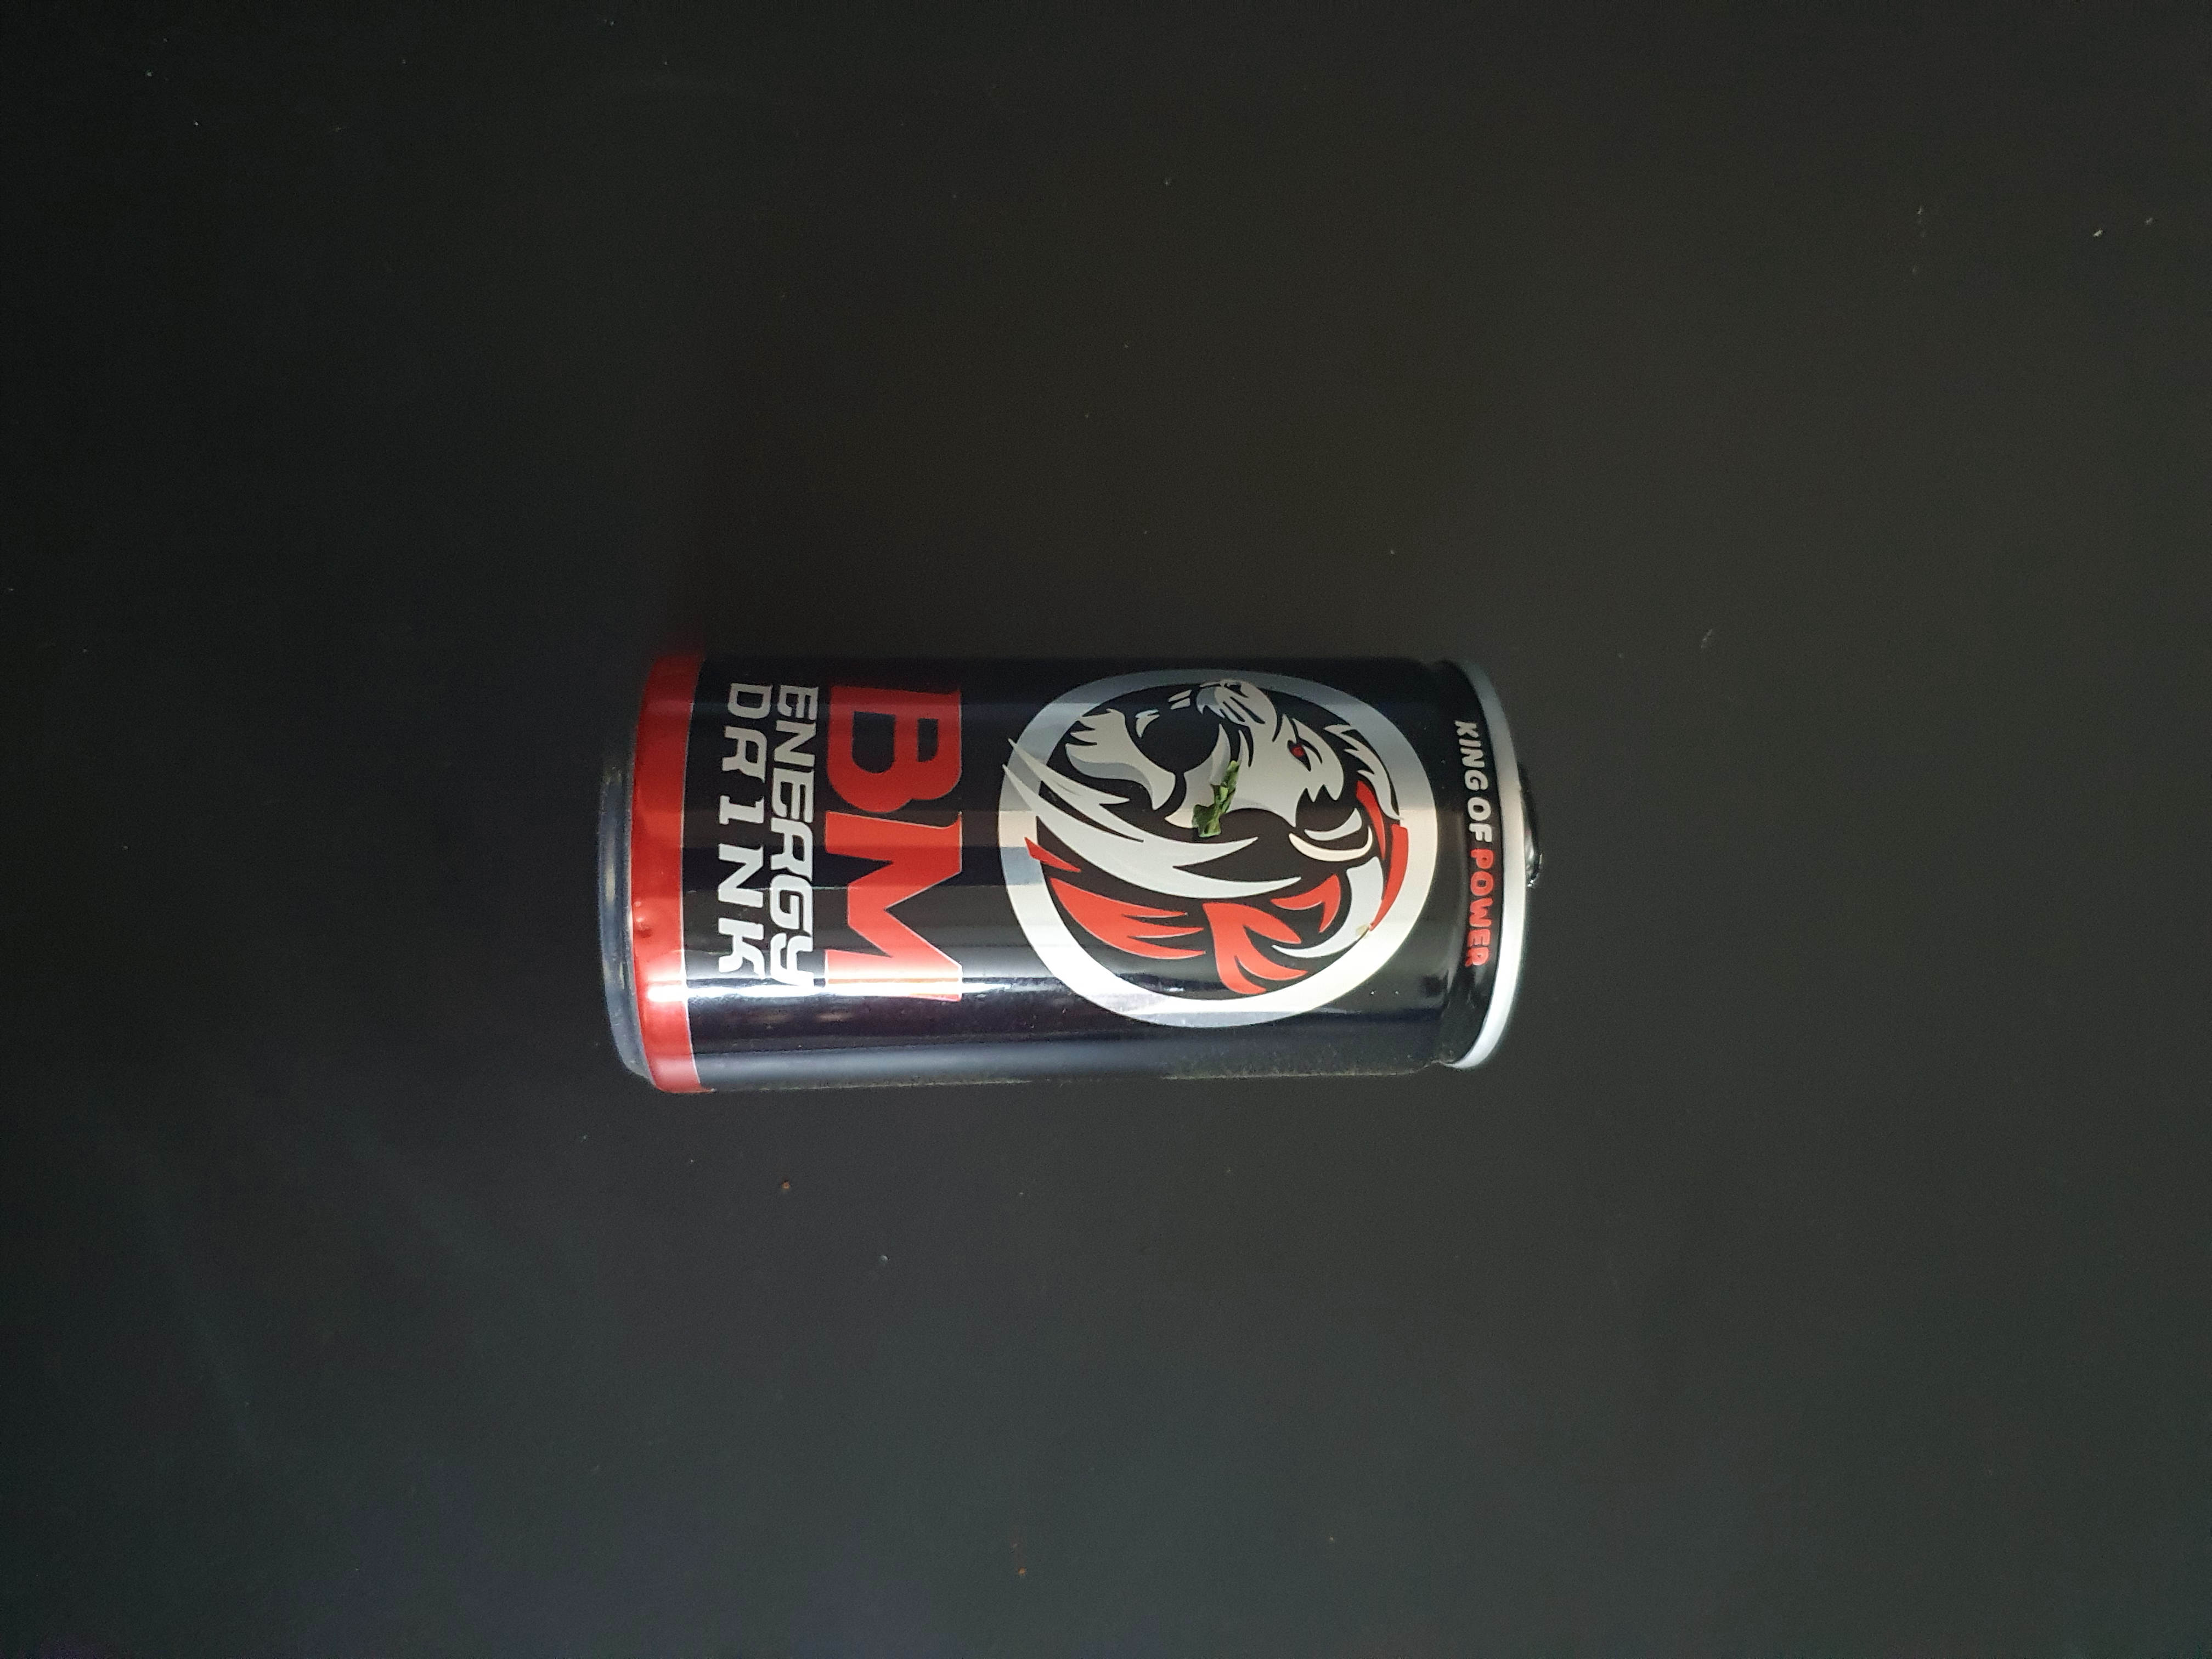metal: (559, 594, 1635, 1169)
